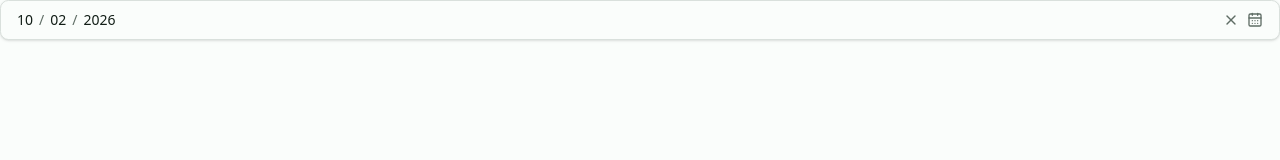
Test: DateField › caps the day at the month's real length once the month is known
The image size is (1280, 160).
Replace the text in the field named "Day" with "3" at (25, 20), box top-left (13, 10), bottom-right (37, 30)
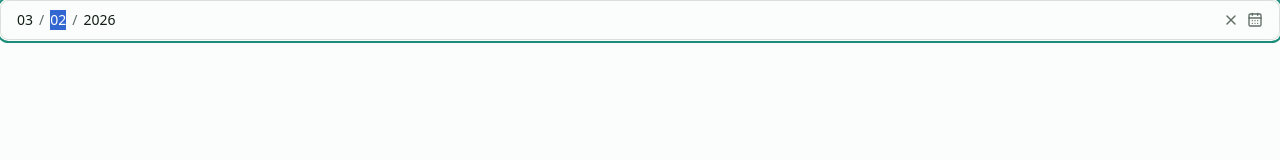
Result: the field named "Day" holds "03" at top-left (13, 10), bottom-right (37, 30)
